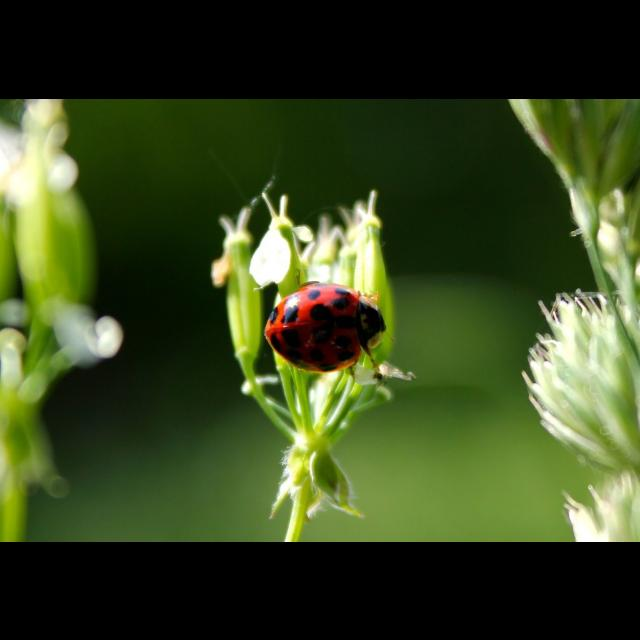Flower: (236, 198, 320, 310)
